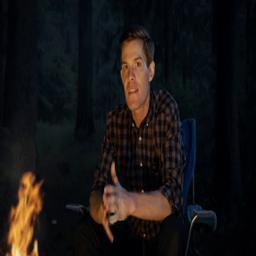fire: (6, 173, 44, 256)
